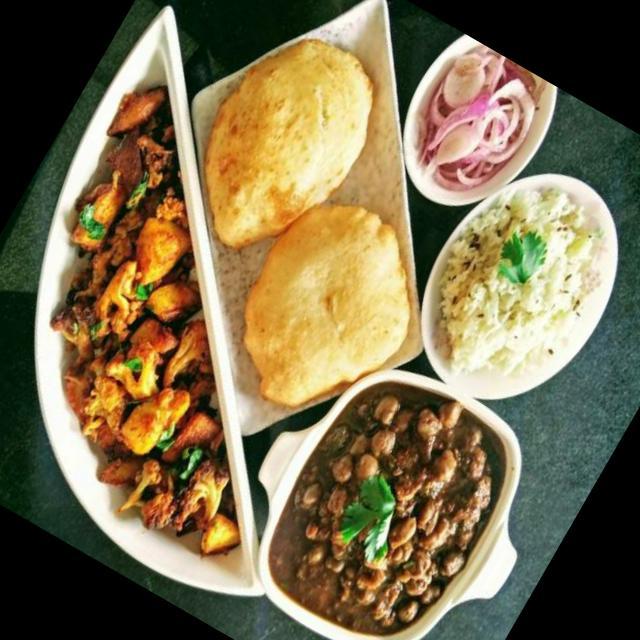Bhatura: (203, 176, 452, 447), (159, 8, 402, 282)
Chole: (253, 360, 532, 640)
